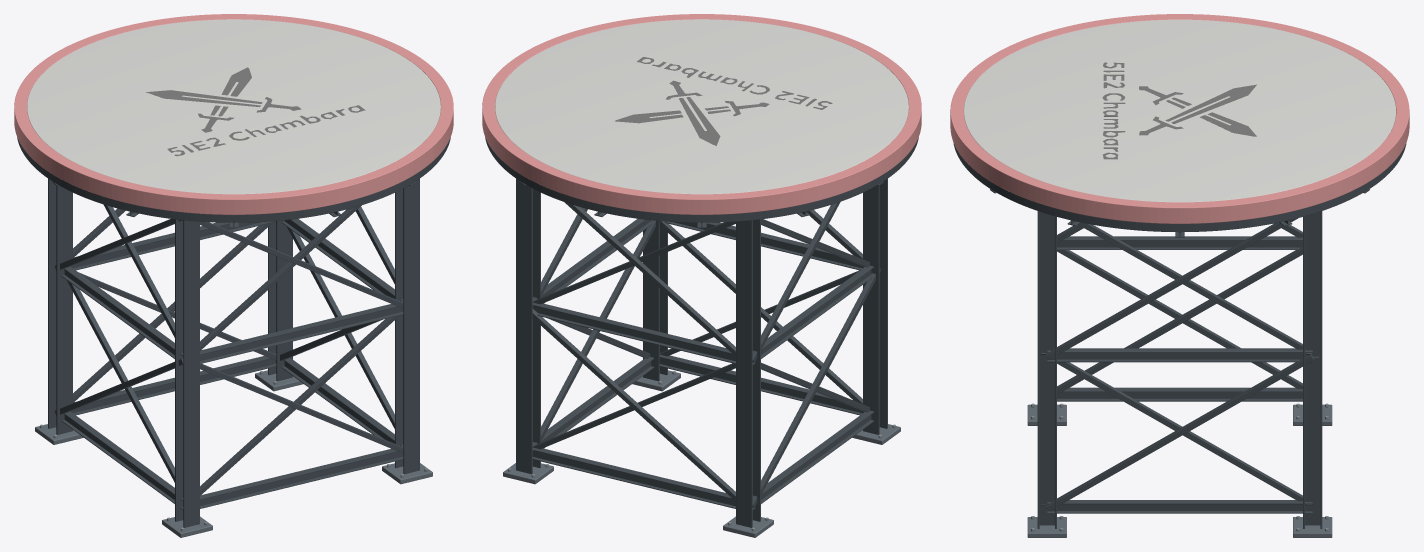
Rendered from ChambaraStageSmall.fbx.
3 renders of one model, left to right at view 1: azimuth 30°, elevation 25°; view 2: azimuth 150°, elevation 25°; view 3: azimuth 270°, elevation 25°, orthographic. The views are drawn at different scales.
Parts seen in each view (by area): view 1: Platform_floor, Pale_red_rim, Steel_column_11, Steel_column_21, Steel_column_12, Underdeck_steel_ring, Horizontal_frontback_-1_0.4, Horizontal_frontback_-1_3.02, Steel_column_22, Center_logo_gray, Horizontal_frontback_1_0.4, X_brace_frontback_-1_0_1 (+19 smaller); view 2: Platform_floor, Pale_red_rim, Steel_column_12, Steel_column_22, Steel_column_11, Underdeck_steel_ring, Horizontal_frontback_1_0.4, Horizontal_frontback_1_3.02, Center_logo_gray, Steel_column_21, X_brace_frontback_1_0_1, Horizontal_frontback_-1_0.4 (+19 smaller); view 3: Platform_floor, Pale_red_rim, Steel_column_22, Steel_column_21, Underdeck_steel_ring, Horizontal_leftright_1_3.02, Horizontal_leftright_1_0.4, Horizontal_leftright_-1_0.4, Horizontal_leftright_-1_3.02, Center_logo_gray, X_brace_leftright_1_0_1, X_brace_leftright_1_1_1 (+6 smaller).
Part boxes in pixels (x1=…): Platform_floor: x1=27, y1=19, x2=440, y2=194; Pale_red_rim: x1=14, y1=14, x2=453, y2=214; Steel_column_11: x1=175, y1=219, x2=199, y2=527; Steel_column_21: x1=395, y1=178, x2=419, y2=474; Steel_column_12: x1=48, y1=178, x2=72, y2=434; Underdeck_steel_ring: x1=17, y1=137, x2=450, y2=222; Horizontal_frontback_-1_0.4: x1=200, y1=446, x2=403, y2=508; Horizontal_frontback_-1_3.02: x1=200, y1=301, x2=403, y2=363; Steel_column_22: x1=268, y1=220, x2=292, y2=381; Center_logo_gray: x1=146, y1=67, x2=365, y2=156; Horizontal_frontback_1_0.4: x1=73, y1=353, x2=276, y2=415; X_brace_frontback_-1_0_1: x1=200, y1=315, x2=399, y2=495; Platform_floor: x1=495, y1=19, x2=908, y2=194; Pale_red_rim: x1=482, y1=14, x2=921, y2=214; Steel_column_12: x1=736, y1=219, x2=760, y2=527; Steel_column_22: x1=516, y1=178, x2=540, y2=474; Steel_column_11: x1=863, y1=178, x2=887, y2=434; Underdeck_steel_ring: x1=485, y1=137, x2=918, y2=222; Horizontal_frontback_1_0.4: x1=532, y1=447, x2=735, y2=508; Horizontal_frontback_1_3.02: x1=532, y1=302, x2=735, y2=363; Center_logo_gray: x1=615, y1=57, x2=832, y2=145; Steel_column_21: x1=643, y1=220, x2=667, y2=381; X_brace_frontback_1_0_1: x1=532, y1=308, x2=735, y2=501; Horizontal_frontback_-1_0.4: x1=659, y1=353, x2=862, y2=415; Platform_floor: x1=963, y1=19, x2=1396, y2=202; Pale_red_rim: x1=950, y1=14, x2=1409, y2=223; Steel_column_22: x1=1303, y1=211, x2=1322, y2=528; Steel_column_21: x1=1037, y1=211, x2=1056, y2=528; Underdeck_steel_ring: x1=953, y1=143, x2=1406, y2=232; Horizontal_leftright_1_3.02: x1=1047, y1=348, x2=1312, y2=362; Horizontal_leftright_1_0.4: x1=1047, y1=500, x2=1312, y2=513; Horizontal_leftright_-1_0.4: x1=1057, y1=387, x2=1302, y2=401; Horizontal_leftright_-1_3.02: x1=1057, y1=236, x2=1302, y2=249; Center_logo_gray: x1=1102, y1=62, x2=1256, y2=159; X_brace_leftright_1_0_1: x1=1046, y1=354, x2=1313, y2=511; X_brace_leftright_1_1_1: x1=1046, y1=218, x2=1298, y2=359.
Bounding box in the file's own units: 720 × 628 × 720.
